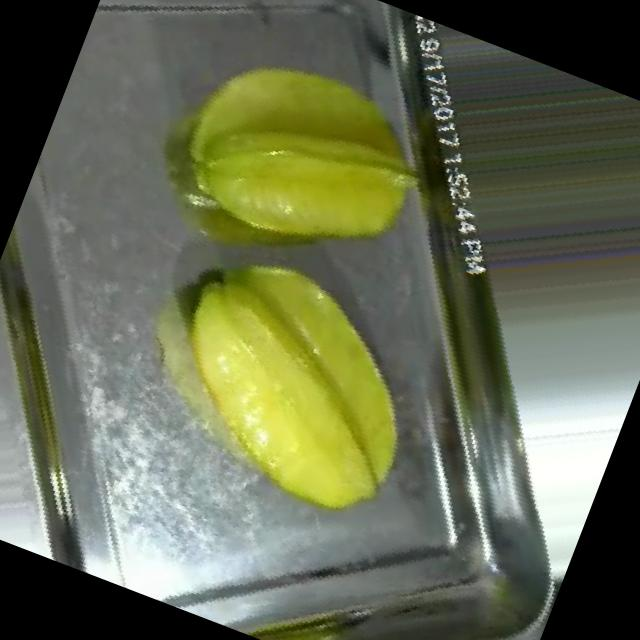fruit: (68, 170, 496, 597), (92, 0, 498, 356)
